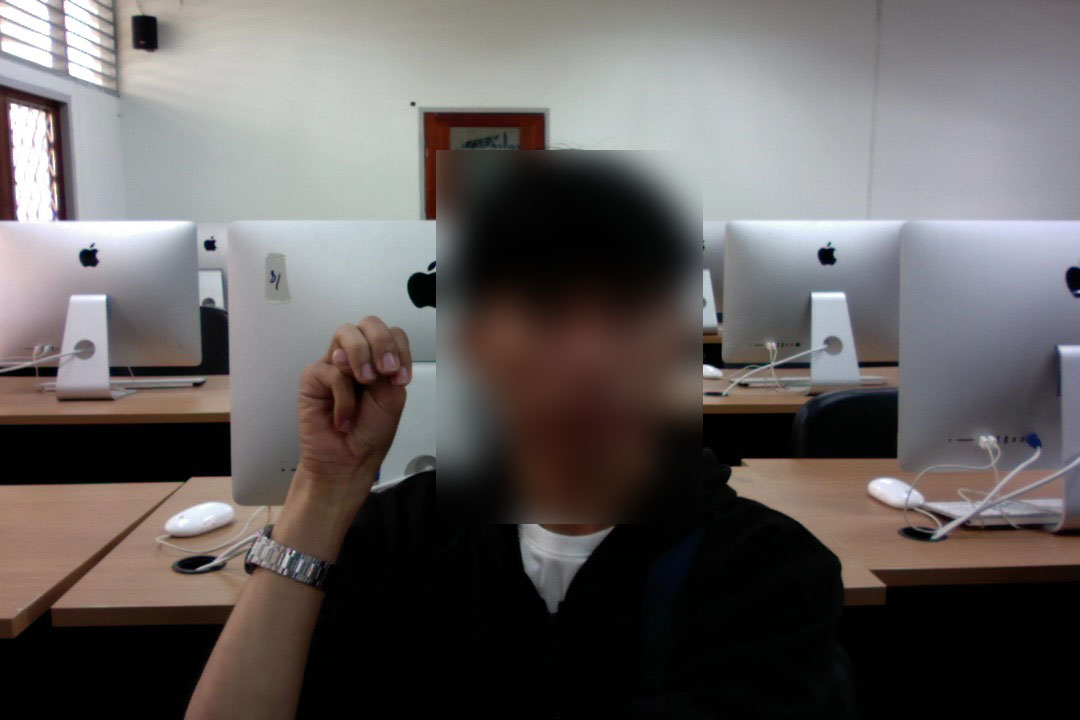mor: (290, 302, 417, 492)
